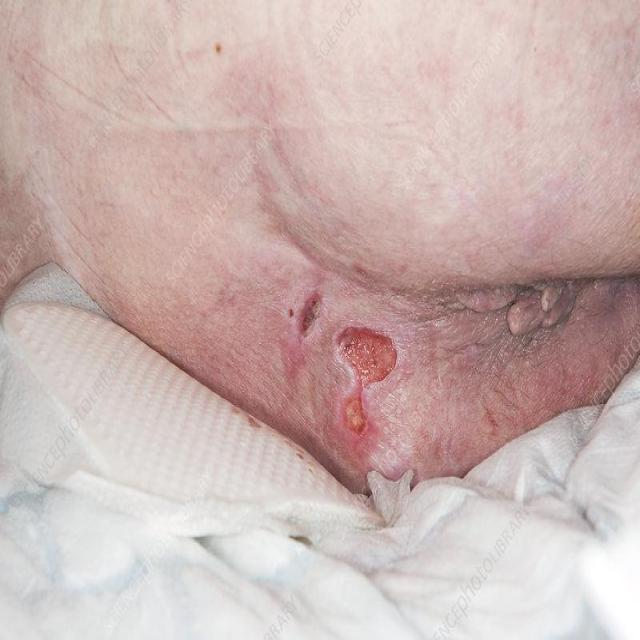stage-3: (339, 328, 396, 435)
